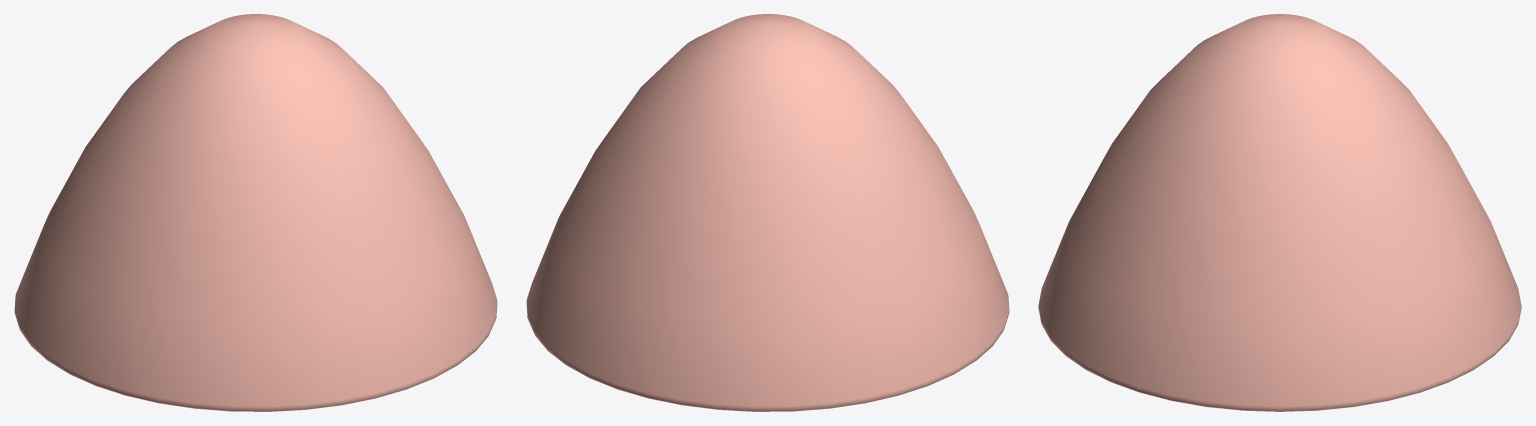
Rendered from RocketTop.glb.
3 renders of one model, left to right at view 1: azimuth 30°, elevation 25°; view 2: azimuth 150°, elevation 25°; view 3: azimuth 270°, elevation 25°, orthographic.
Parts seen in each view (by area): view 1: Cylinder.009; view 2: Cylinder.009; view 3: Cylinder.009.
Boxes of the visible parts, box(x1,y1,x2,y2) form: Cylinder.009: box(14, 14, 497, 411); Cylinder.009: box(526, 14, 1009, 411); Cylinder.009: box(1038, 14, 1521, 411).
Bounding box in the file's own units: 0.2841 × 0.1868 × 0.2841.
